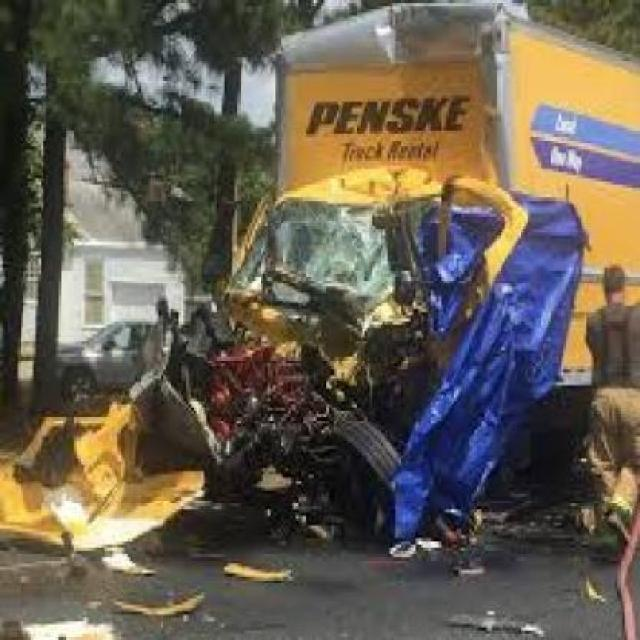accident: (7, 32, 593, 586)
